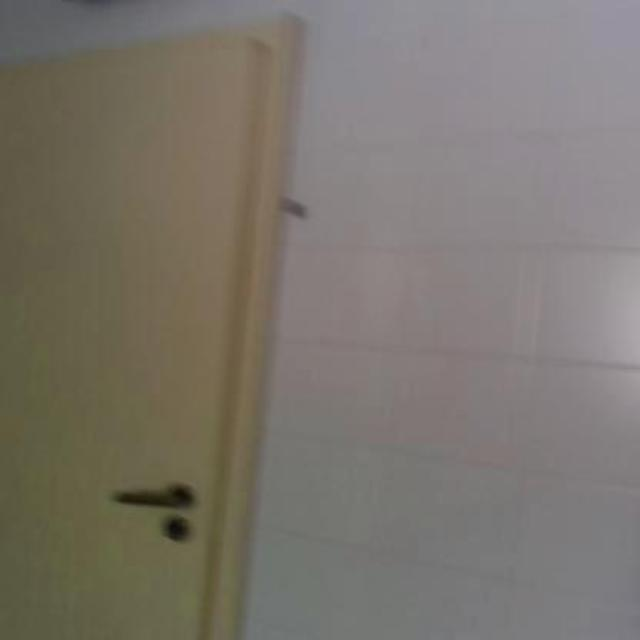door: (0, 16, 292, 638)
